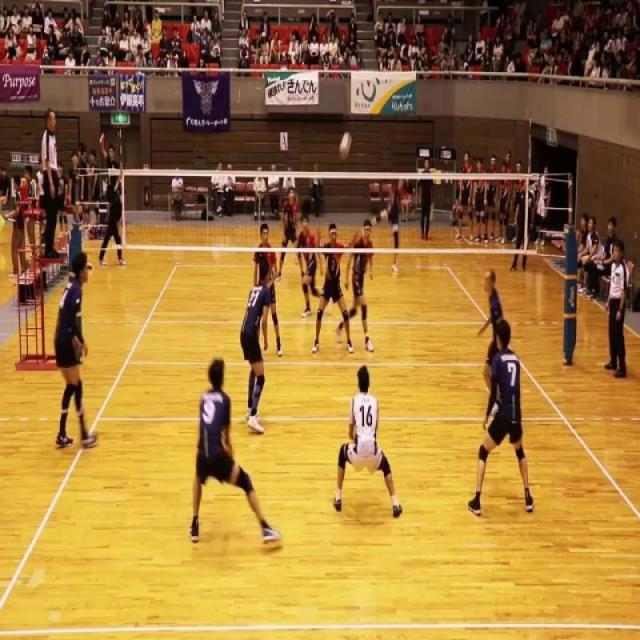volleyball: (338, 130, 352, 163)
